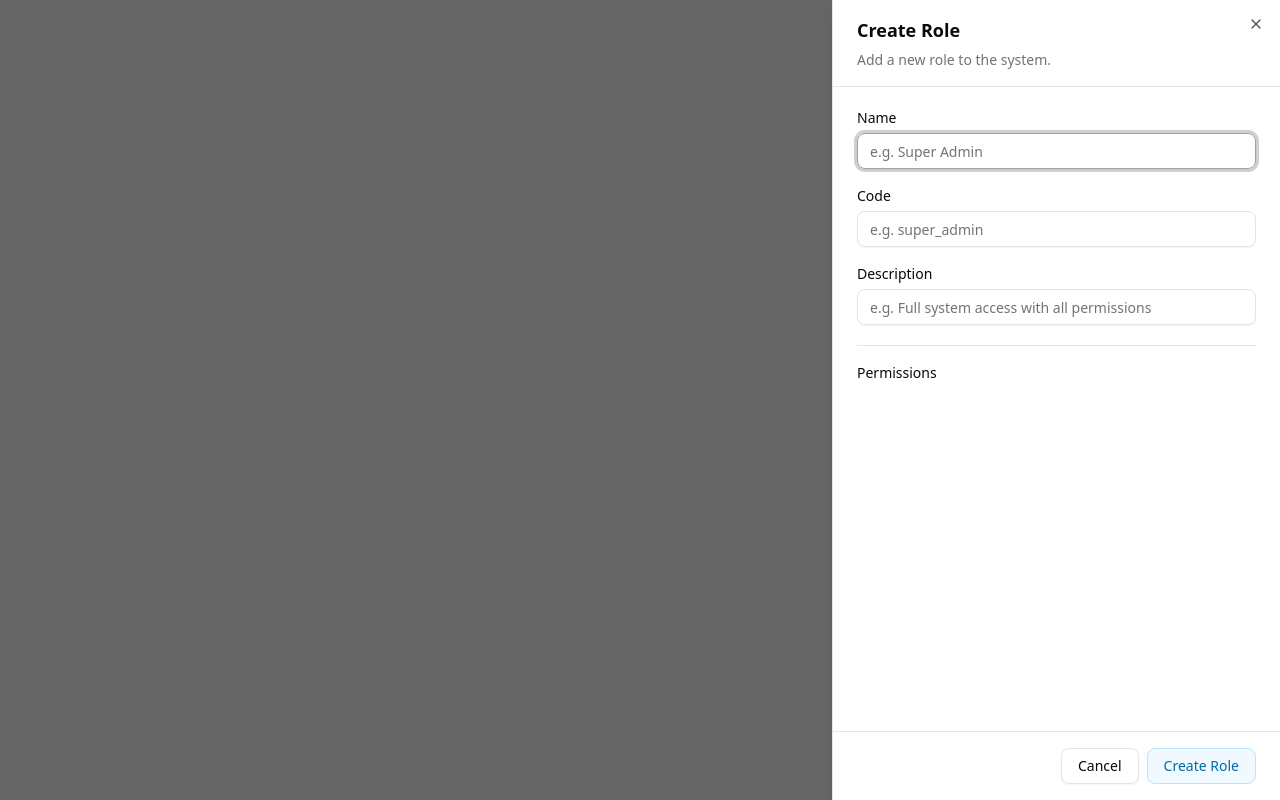
Scenario: RoleDialog — create mode › code starting with digit → ROLE_CODE_PATTERN
In the field with placeholder "e.g. Super Admin": (1056, 151) [857, 133, 1256, 169], type "My Role"
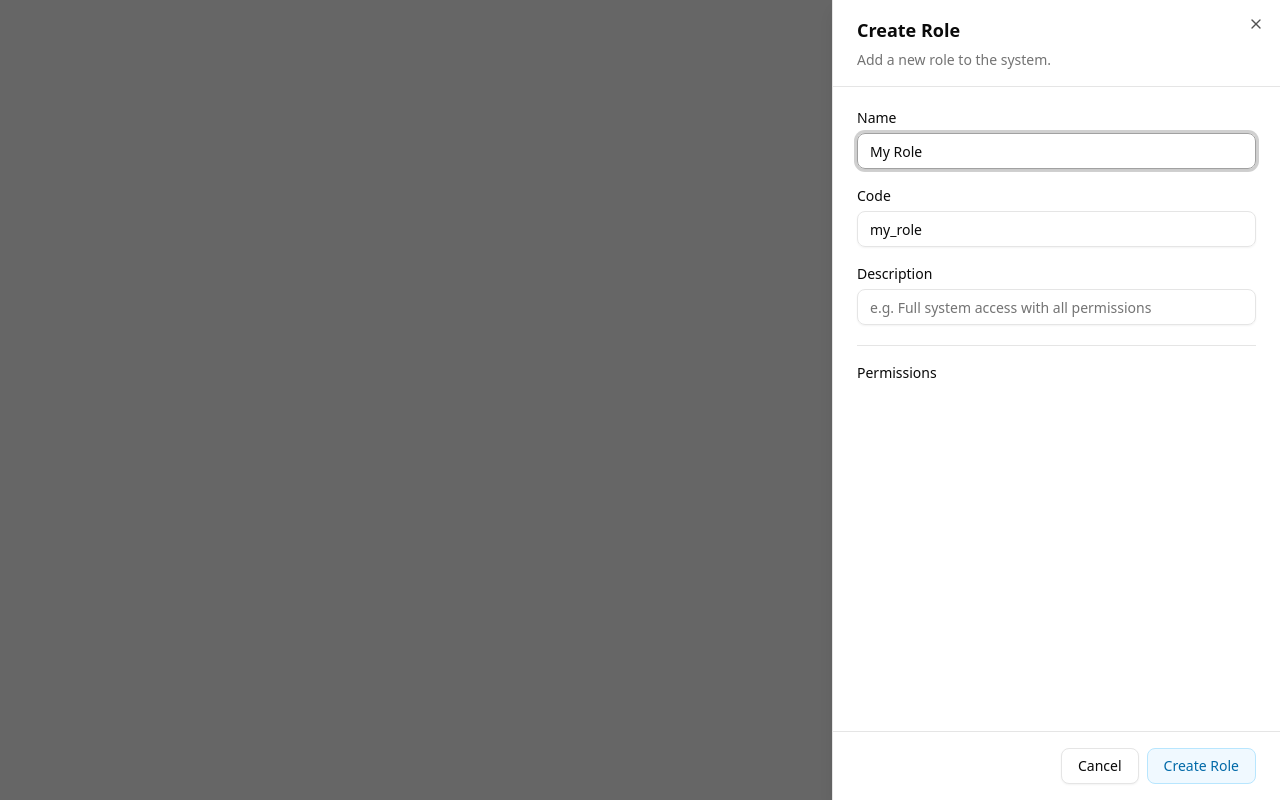
Replace the text in the field with placeholder "e.g. super_admin" with "2role": (1056, 229) [857, 211, 1256, 247]
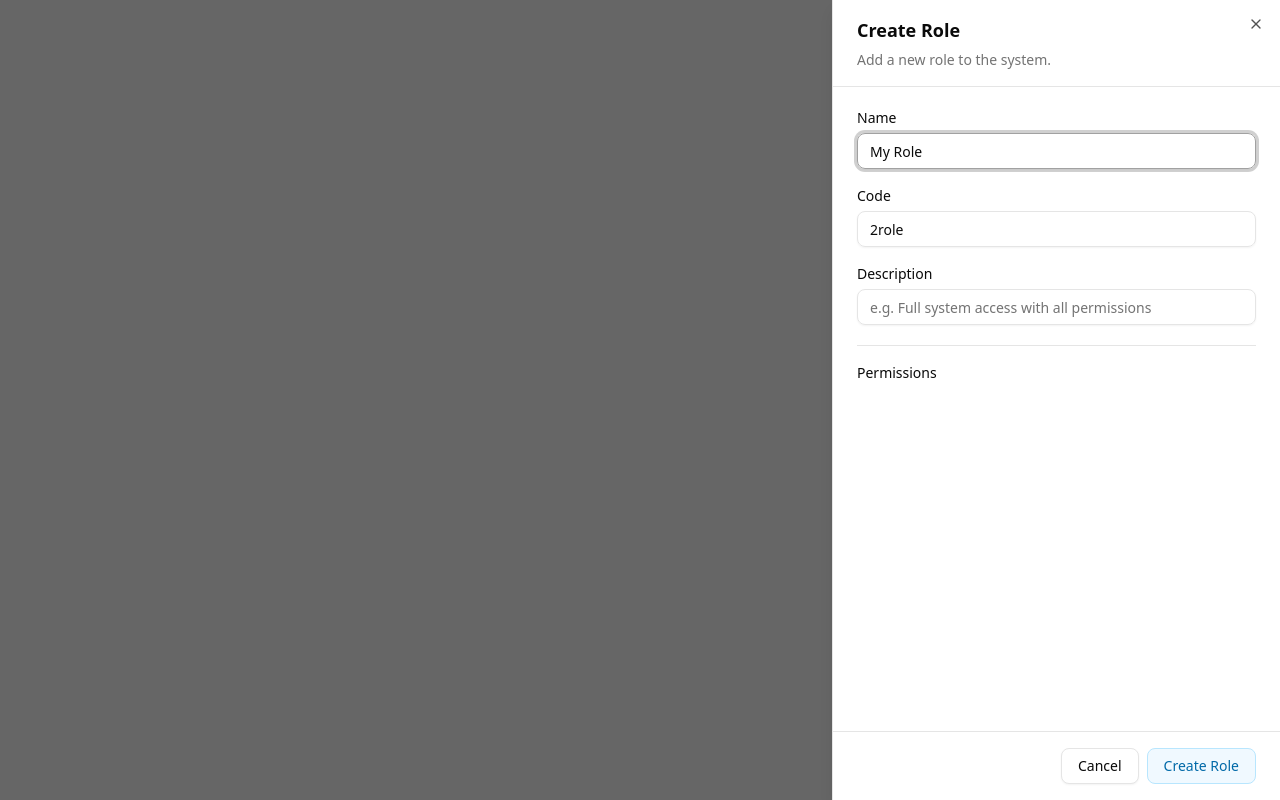
Click the button "Create Role": (1201, 766) [1147, 748, 1256, 784]
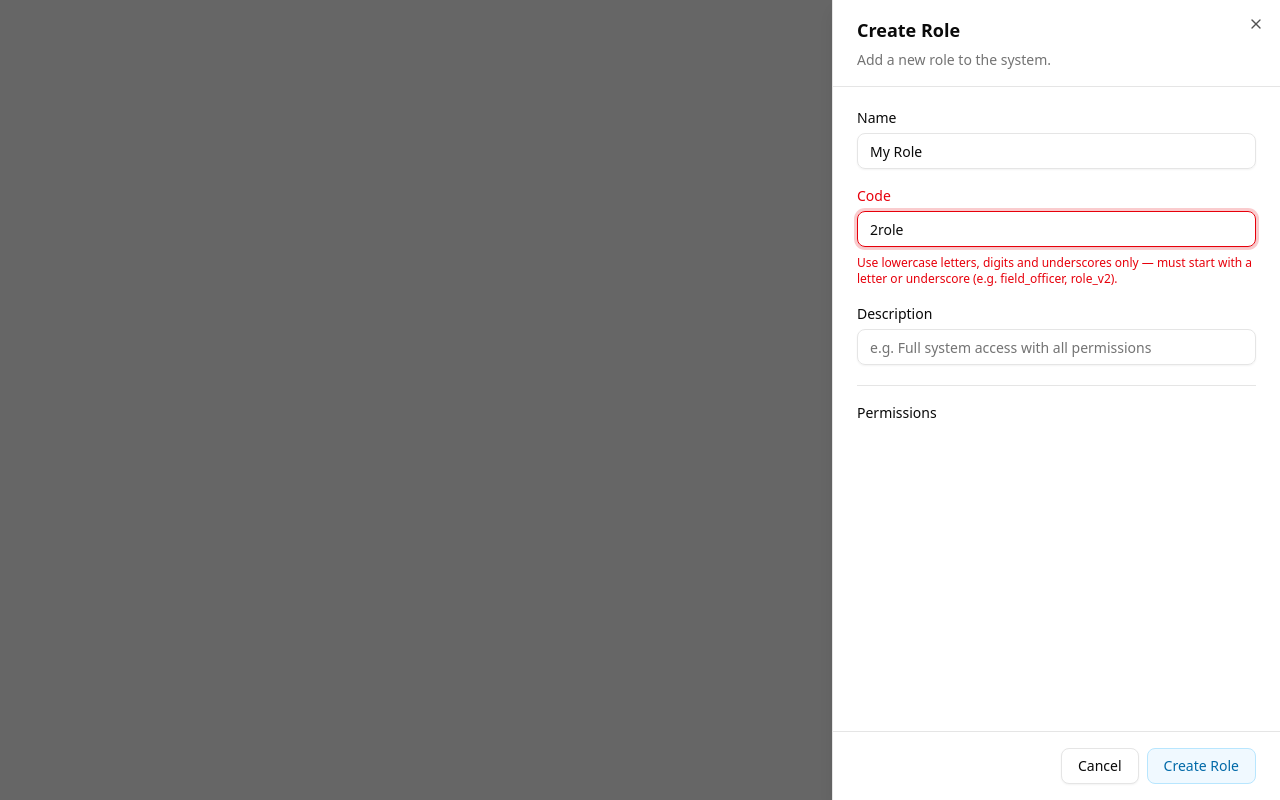
Check: the text "Use lowercase letters, digits and underscores only" is shown, box [857, 254, 1252, 287]
